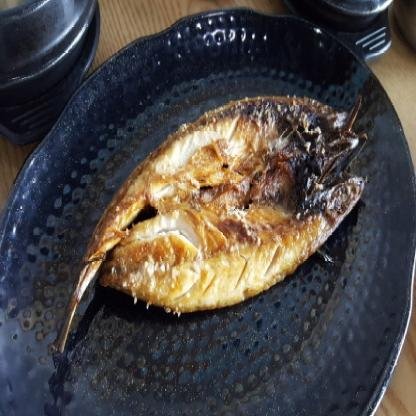Peixe: (32, 100, 379, 389)
